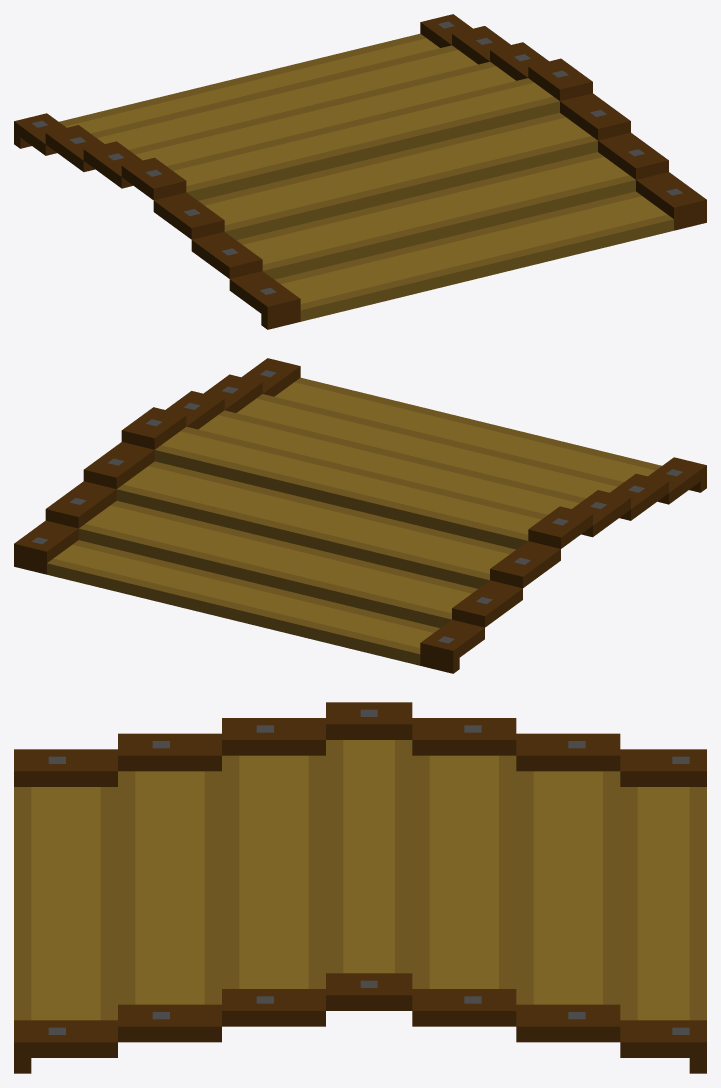
Rendered from bridge.obj.
3 renders of one model, top to bottom at view 1: azimuth 30°, elevation 25°; view 2: azimuth 150°, elevation 25°; view 3: azimuth 270°, elevation 25°, orthographic. The views are drawn at different scales.
Size of the model in its own units: 4 by 0.5 by 4.
Materials: 1 (1 with a texture image).
